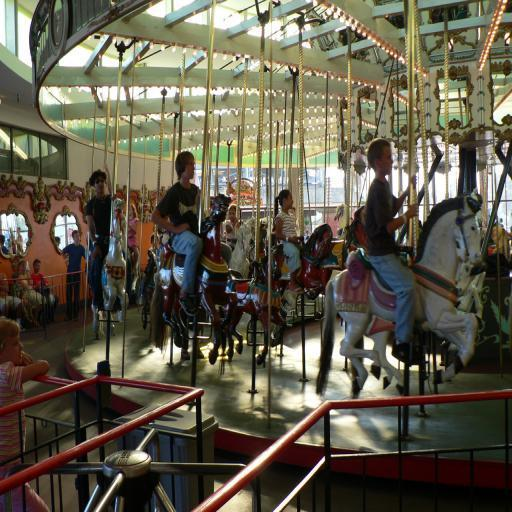horse: (314, 188, 486, 408), (138, 190, 338, 364), (88, 193, 132, 338)
